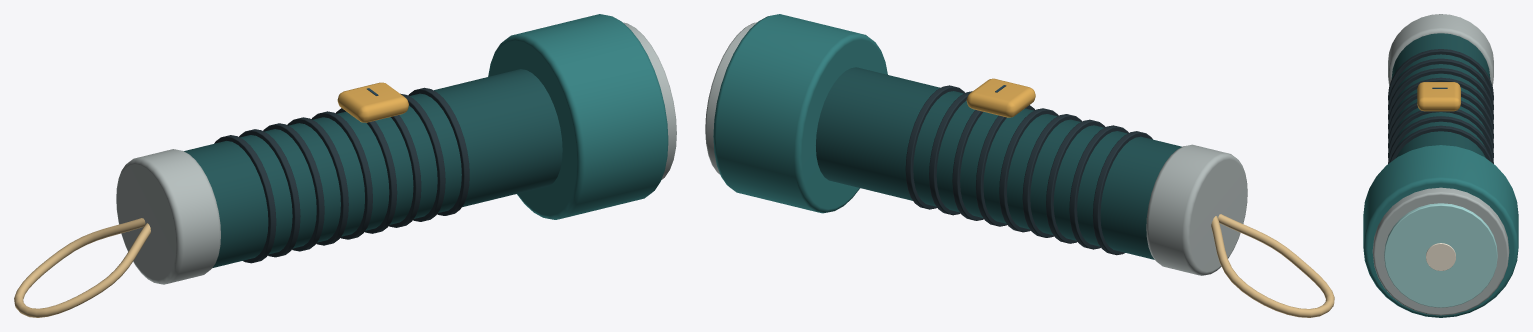
The model's file is Flashlight.fbx.
The picture shows the model from 3 angles, left to right: view 1: azimuth 30°, elevation 25°; view 2: azimuth 150°, elevation 25°; view 3: azimuth 270°, elevation 25°; orthographic projection. The views are drawn at different scales.
Visible parts, largest first — view 1: Surface_KKTC_CanvasDeep, Surface_KKTC_CanvasTeal, Surface_KKTC_Metal, Surface_KKTC_Rubber, Surface_KKTC_Webbing, PowerSwitch; view 2: Surface_KKTC_CanvasDeep, Surface_KKTC_CanvasTeal, Surface_KKTC_Metal, Surface_KKTC_Rubber, Surface_KKTC_Webbing, PowerSwitch; view 3: Surface_KKTC_Lens, Surface_KKTC_CanvasTeal, Surface_KKTC_Metal, Surface_KKTC_Rubber, Surface_KKTC_CanvasDeep, PowerSwitch, Surface_KKTC_WarmWhite.
Boxes of the visible parts, x1=… form: Surface_KKTC_CanvasDeep: x1=184, y1=69, x2=562, y2=267; Surface_KKTC_CanvasTeal: x1=488, y1=14, x2=668, y2=219; Surface_KKTC_Metal: x1=116, y1=22, x2=676, y2=284; Surface_KKTC_Rubber: x1=214, y1=87, x2=469, y2=263; Surface_KKTC_Webbing: x1=14, y1=218, x2=150, y2=317; PowerSwitch: x1=337, y1=82, x2=408, y2=122; Surface_KKTC_CanvasDeep: x1=816, y1=67, x2=1181, y2=259; Surface_KKTC_CanvasTeal: x1=713, y1=14, x2=887, y2=213; Surface_KKTC_Metal: x1=705, y1=22, x2=1247, y2=275; Surface_KKTC_Rubber: x1=905, y1=85, x2=1152, y2=255; Surface_KKTC_Webbing: x1=1211, y1=214, x2=1334, y2=317; PowerSwitch: x1=966, y1=78, x2=1035, y2=117; Surface_KKTC_Lens: x1=1384, y1=203, x2=1497, y2=307; Surface_KKTC_CanvasTeal: x1=1363, y1=145, x2=1518, y2=317; Surface_KKTC_Metal: x1=1372, y1=14, x2=1509, y2=315; Surface_KKTC_Rubber: x1=1388, y1=49, x2=1493, y2=163; Surface_KKTC_CanvasDeep: x1=1391, y1=33, x2=1490, y2=157; PowerSwitch: x1=1417, y1=82, x2=1460, y2=111; Surface_KKTC_WarmWhite: x1=1426, y1=243, x2=1455, y2=270.
Bounding box in the file's own units: 30.65 × 8.2 × 8.2.
